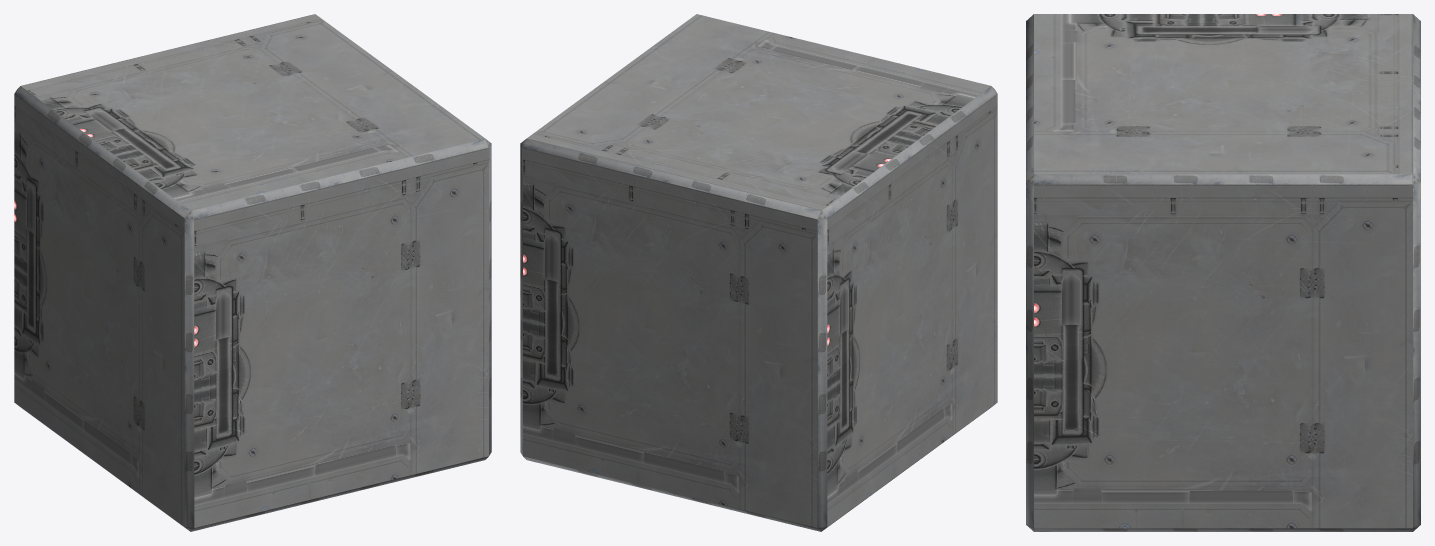
The model's file is SM_Crate3.fbx.
The picture shows the model from 3 angles, left to right: view 1: azimuth 30°, elevation 25°; view 2: azimuth 150°, elevation 25°; view 3: azimuth 270°, elevation 25°; orthographic projection. The views are drawn at different scales.
Visible parts, largest first — view 1: SM_Crate3_LOD0; view 2: SM_Crate3_LOD0; view 3: SM_Crate3_LOD0.
Part boxes in pixels (x1=…): SM_Crate3_LOD0: x1=14, y1=14, x2=491, y2=531; SM_Crate3_LOD0: x1=520, y1=14, x2=997, y2=531; SM_Crate3_LOD0: x1=1026, y1=14, x2=1420, y2=531.
Bounding box in the file's own units: 100 × 100 × 100.
Materials: 2 (2 with a texture image).
